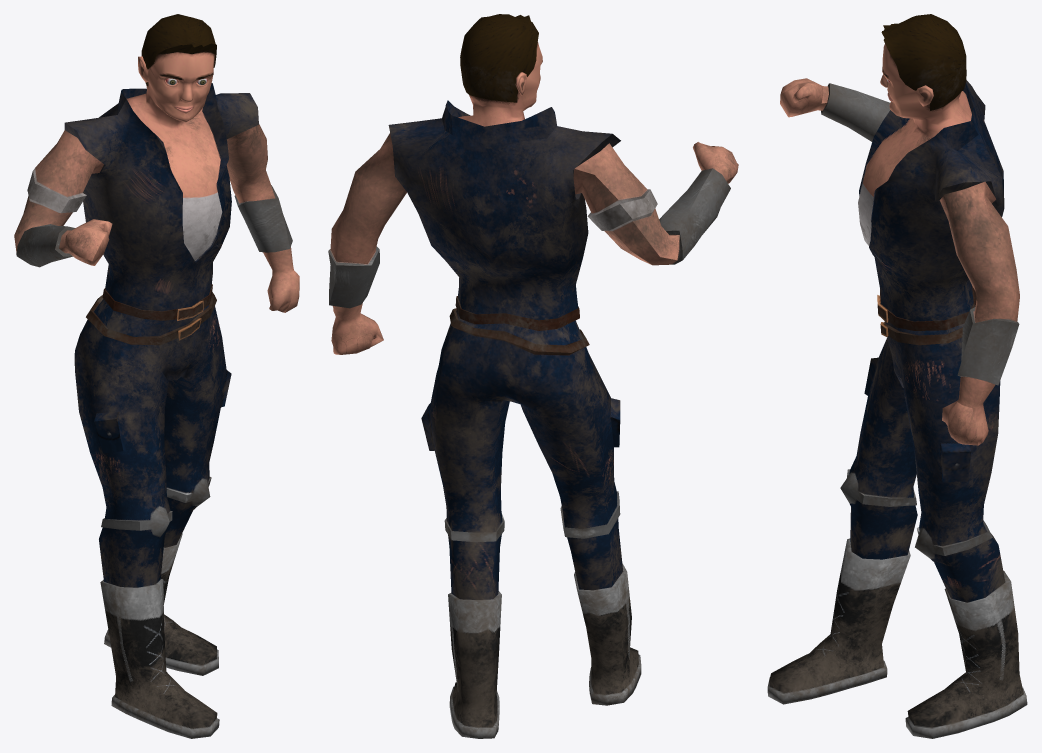
The model's file is Anim_puerta_mal_jugador.0035.obj.
The picture shows the model from 3 angles, left to right: view 1: azimuth 30°, elevation 25°; view 2: azimuth 150°, elevation 25°; view 3: azimuth 270°, elevation 25°; orthographic projection. The views are drawn at different scales.
Visible parts, largest first — view 1: polySurface1; view 2: polySurface1; view 3: polySurface1.
Boxes of the visible parts, x1=… form: polySurface1: x1=14, y1=14, x2=299, y2=738; polySurface1: x1=328, y1=14, x2=738, y2=738; polySurface1: x1=767, y1=14, x2=1027, y2=738.
Size of the model in its own units: 4.78 by 9.58 by 3.22.
